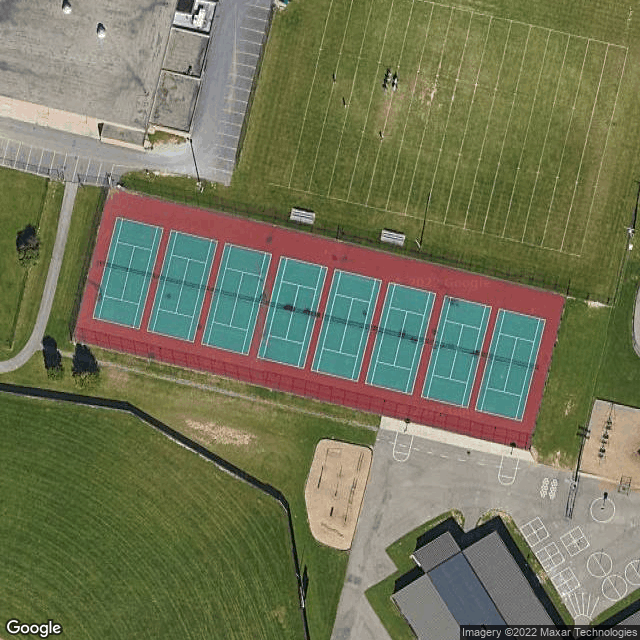Court: (361, 281, 437, 397), (145, 228, 220, 345), (418, 293, 493, 409), (256, 254, 331, 369), (308, 268, 383, 383), (199, 242, 273, 357), (92, 215, 165, 331), (473, 308, 547, 422)
